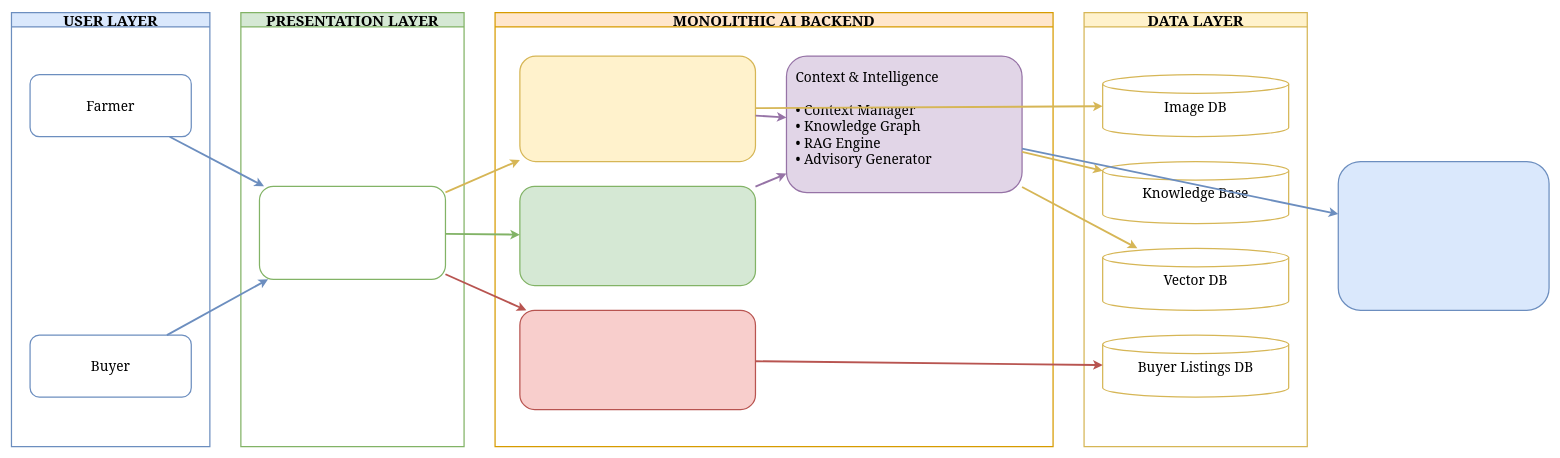
This 1560x458 diagram has some shape labels left out. Each missing label, with the centre of its shape:
Chatbot Module • Query Handler • Response Formatter: point (637, 235)
Disease Detection Module • Image Controller • CNN Model • Disease Classifier: point (637, 108)
EXTERNAL SERVICES • NASA POWER API • Open Elevation API • LLM API (GPT/Claude): point (1443, 236)
Market Discovery • Listing Service • Buyer Match Engine: point (637, 359)
Web Application & Chatbot UI: point (352, 232)
